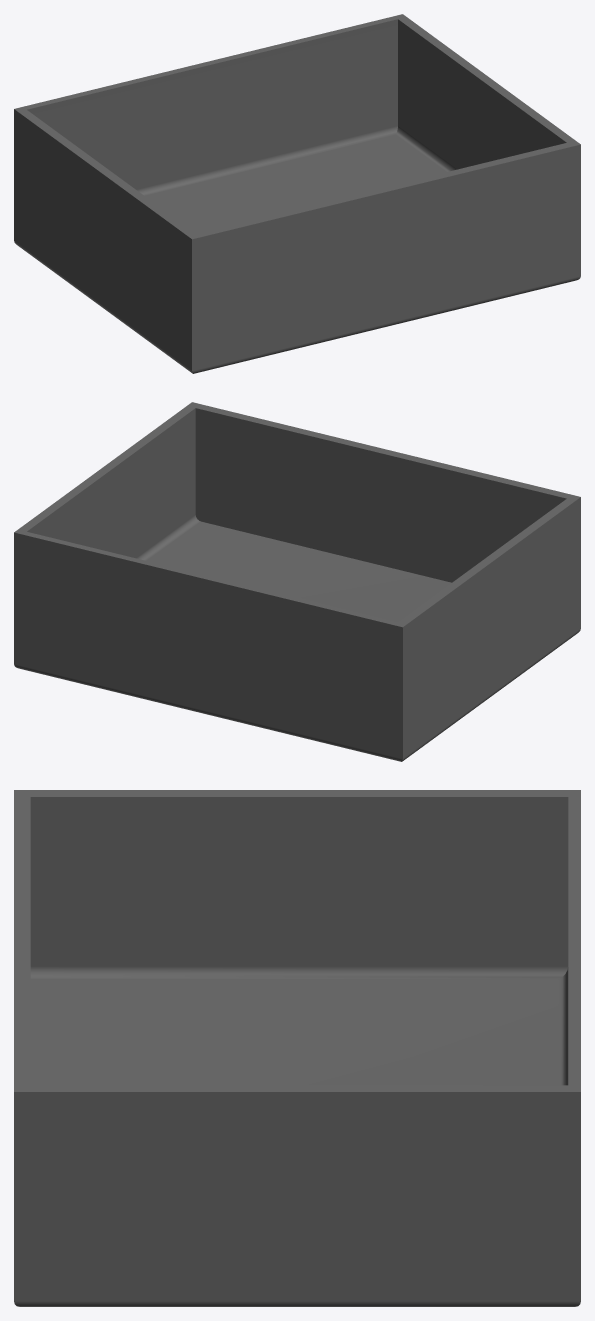
Rendered from fridgePartBottom.fbx.
3 views of the same model, one above another, from view 1: azimuth 30°, elevation 25°; view 2: azimuth 150°, elevation 25°; view 3: azimuth 270°, elevation 25° (orthographic). The views are drawn at different scales.
Visible parts, largest first — view 1: polySurface299; view 2: polySurface299; view 3: polySurface299.
Boxes of the visible parts, x1,y1,x2,y2 form: polySurface299: (14, 14, 580, 373); polySurface299: (14, 402, 580, 761); polySurface299: (14, 790, 580, 1306).
Size of the model in its own units: 0.783 by 0.2638 by 0.6214.
